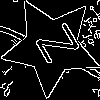Z: (26, 21, 81, 72)
